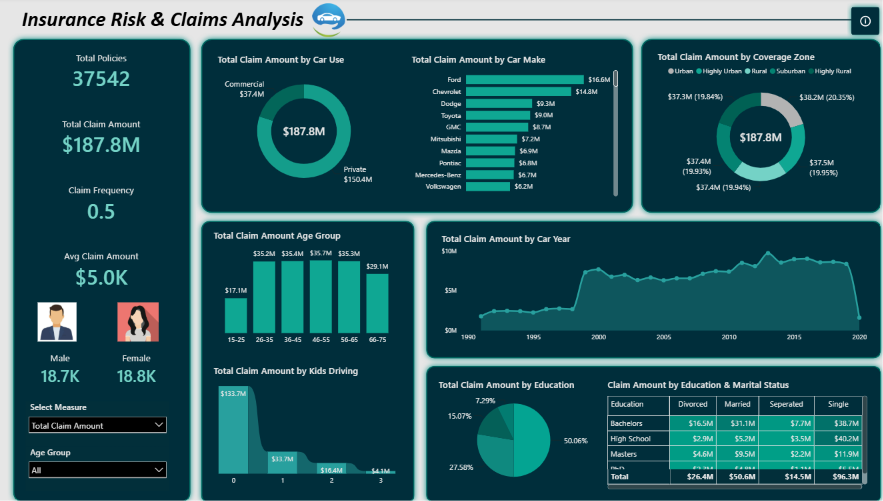

The page's visual inventory and layout, read from the dashboard file:
{"tool":"powerbi","page":{"name":"   Insurance Risk & Claims Analysis","canvas":[1600,950],"ordinal":0},"visuals":[{"type":"textbox","box":[16,16,544,48],"z":0},{"type":"shape","box":[16,64,336,848],"z":1000},{"type":"cardVisual","fields":{"Data":["insurance_data_car.Total Policies","insurance_data_car.Total Claim Amount","insurance_data_car.Claim Frequency","insurance_data_car.Avg Claim Amount"]},"box":[48,80,270,460],"z":2000},{"type":"cardVisual","fields":{"Data":["insurance_data_car.Male Count","insurance_data_car.Female Count"]},"box":[48,608,260,110],"z":3000},{"type":"image","box":[64,544,80,70],"z":4000},{"type":"image","box":[208,544,80,70],"z":5000},{"type":"slicer","fields":{"Values":["Select Measure .Select Measure "]},"box":[48,720,256,80],"z":6000},{"type":"shape","box":[352,64,790,330],"z":7000},{"type":"donutChart","title":"Total Claim Amount by Car Use","fields":{"Category":["insurance_data_car.Car Use"],"Y":["insurance_data_car.Total Claim Amount"]},"box":[375,85,340,285],"z":8000},{"type":"clusteredBarChart","title":"Total Claim Amount by Car Make","fields":{"Category":["insurance_data_car.Car Make"],"Y":["insurance_data_car.Total Claim Amount"]},"box":[720,85,400,285],"z":9000},{"type":"shape","box":[1136,64,448,330],"z":10000},{"type":"donutChart","title":"Total Claim Amount by Coverage Zone","fields":{"Category":["insurance_data_car.Coverage Zone"],"Y":["insurance_data_car.Total Claim Amount"]},"box":[1160,80,400,288],"z":11000},{"type":"shape","box":[352,388,400,525],"z":12000},{"type":"clusteredColumnChart","title":"Total Claim Amount Age Group","fields":{"Category":["insurance_data_car.Age Group"],"Y":["insurance_data_car.Total Claim Amount"]},"box":[368,400,365,240],"z":13000},{"type":"ribbonChart","title":"Total Claim Amount by Kids Driving","fields":{"Category":["insurance_data_car.Kids Driving"],"Y":["insurance_data_car.Total Claim Amount"]},"box":[368,640,365,250],"z":14000},{"type":"shape","box":[752,388,832,265],"z":15000},{"type":"shape","box":[752,648,832,265],"z":16000},{"type":"areaChart","title":"Total Claim Amount by Car Year","fields":{"Category":["insurance_data_car.Car Year"],"Y":["insurance_data_car.Total Claim Amount"]},"box":[774,405,790,230],"z":17000},{"type":"pieChart","fields":{"Category":["insurance_data_car.Education"],"Y":["insurance_data_car.Total Claim Amount"]},"box":[768,665,300,228],"z":18000},{"type":"pivotTable","title":"Claim Amount by Education & Marital Status","fields":{"Columns":["insurance_data_car.Marital Status"],"Rows":["insurance_data_car.Education"],"Values":["insurance_data_car.Total Claim Amount"]},"box":[1070,665,495,228],"z":19000},{"type":"slicer","fields":{"Values":["insurance_data_car.Age Group"]},"box":[48,800,256,80],"z":19001},{"type":"image","box":[525,10,128,60],"z":19002},{"type":"actionButton","box":[1511,7,70,70],"z":19003},{"type":"shape","box":[620,16,900,48],"z":19004}]}

Visuals, with their boxes in screenshot pixels (x1, y1, x2, y2):
textbox: 9/11/302/37
shape: 9/37/190/494
cardVisual - insurance_data_car.Total Policies x insurance_data_car.Total Claim Amount: 26/45/172/294
cardVisual - insurance_data_car.Male Count x insurance_data_car.Female Count: 26/330/166/390
image: 35/296/78/334
image: 112/296/155/334
slicer - Select Measure .Select Measure : 26/391/164/434
shape: 190/37/616/215
"Total Claim Amount by Car Use" donutChart: 202/48/386/202
"Total Claim Amount by Car Make" clusteredBarChart: 388/48/604/202
shape: 613/37/855/215
"Total Claim Amount by Coverage Zone" donutChart: 626/45/842/201
shape: 190/212/406/495
"Total Claim Amount Age Group" clusteredColumnChart: 199/218/395/348
"Total Claim Amount by Kids Driving" ribbonChart: 199/348/395/482
shape: 406/212/855/355
shape: 406/352/855/495
"Total Claim Amount by Car Year" areaChart: 418/221/844/345
pieChart - insurance_data_car.Education x insurance_data_car.Total Claim Amount: 414/361/576/484
"Claim Amount by Education & Marital Status" pivotTable: 577/361/844/484
slicer - insurance_data_car.Age Group: 26/434/164/477
image: 283/8/352/40
actionButton: 815/6/853/44
shape: 334/11/820/37
